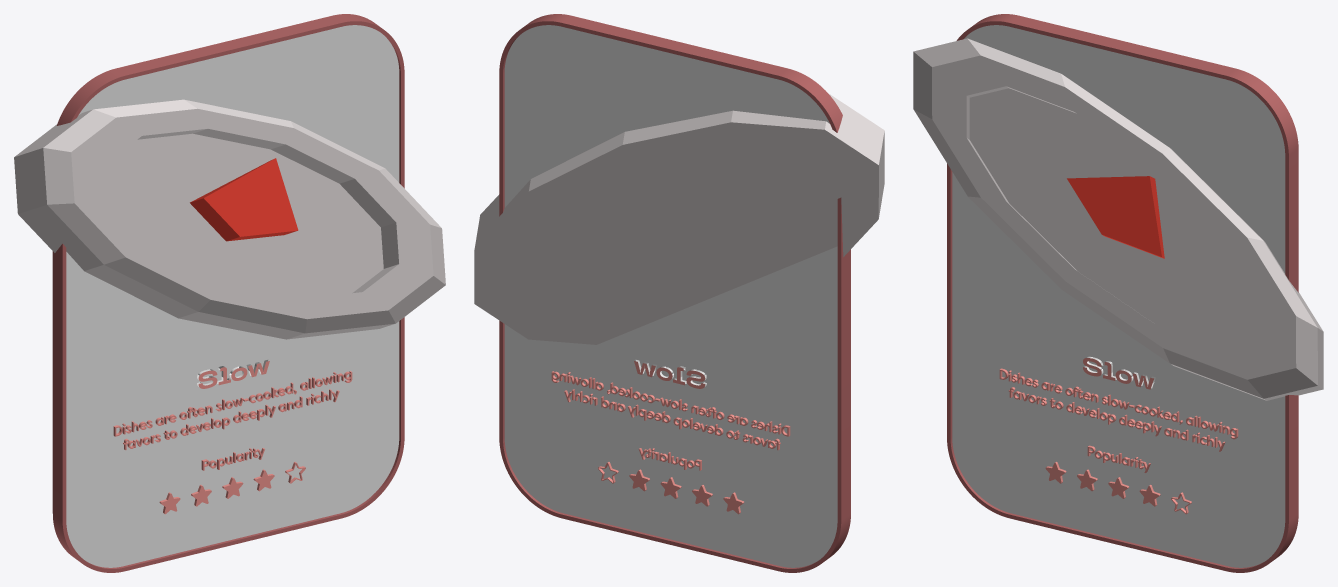
File: slow.glb
3 renders of one model, left to right at view 1: azimuth 30°, elevation 25°; view 2: azimuth 150°, elevation 25°; view 3: azimuth 330°, elevation 25°, orthographic.
Visible parts, largest first — view 1: Mesh_2729.001, group329809162.044, Mesh_2380.002, Mesh_1935.002, Mesh_2623.001, Mesh_2309.002; view 2: Mesh_2729.001, group329809162.044, Mesh_2380.002, Mesh_1935.002, Mesh_2623.001, Mesh_2309.002; view 3: Mesh_2729.001, group329809162.044, Mesh_2380.002, Mesh_1935.002, Mesh_2623.001, Mesh_2309.002.
Part boxes in pixels (left/top/right/bottom): Mesh_2729.001: left=66, top=25, right=399, bottom=567; group329809162.044: left=14, top=99, right=445, bottom=339; Mesh_2380.002: left=52, top=14, right=404, bottom=572; Mesh_1935.002: left=113, top=371, right=352, bottom=470; Mesh_2623.001: left=159, top=462, right=305, bottom=514; Mesh_2309.002: left=198, top=361, right=269, bottom=388; Mesh_2729.001: left=504, top=25, right=837, bottom=567; group329809162.044: left=474, top=94, right=884, bottom=344; Mesh_2380.002: left=499, top=14, right=850, bottom=572; Mesh_1935.002: left=551, top=371, right=790, bottom=470; Mesh_2623.001: left=598, top=462, right=744, bottom=514; Mesh_2309.002: left=634, top=361, right=705, bottom=388; Mesh_2729.001: left=952, top=25, right=1285, bottom=567; group329809162.044: left=913, top=38, right=1323, bottom=400; Mesh_2380.002: left=947, top=14, right=1298, bottom=572; Mesh_1935.002: left=999, top=368, right=1238, bottom=472; Mesh_2623.001: left=1045, top=461, right=1191, bottom=514; Mesh_2309.002: left=1083, top=358, right=1153, bottom=389.
Size of the model in its own units: 11.01 by 12.55 by 1.35.
